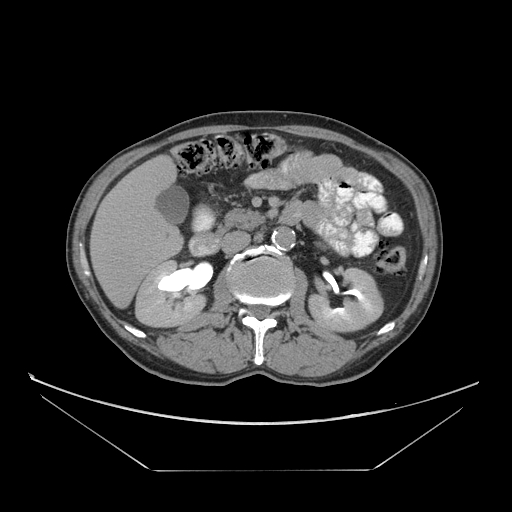left_kidney: (129, 258, 210, 330)
right_kidney: (303, 263, 387, 333)
